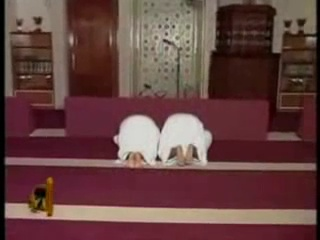sujud: (159, 112, 213, 167), (114, 113, 160, 170)
